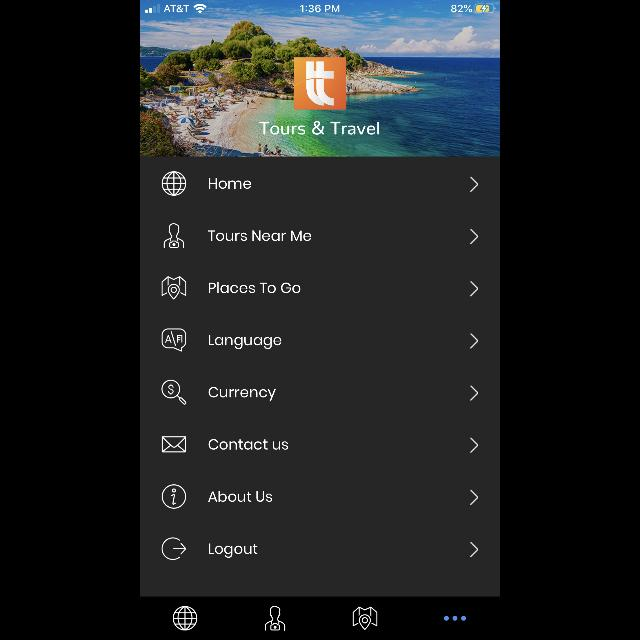icon: (172, 606, 198, 630), (353, 606, 377, 630), (162, 485, 186, 509), (162, 380, 186, 404), (162, 328, 186, 352), (162, 276, 186, 300), (162, 172, 186, 196), (162, 538, 186, 560), (265, 606, 285, 630), (164, 224, 184, 248), (162, 437, 186, 453), (470, 542, 478, 558), (470, 490, 478, 506), (470, 437, 478, 453), (470, 385, 478, 401), (470, 333, 478, 349), (470, 281, 478, 297), (470, 229, 478, 245), (470, 176, 478, 192), (444, 616, 466, 620)
image: (140, 1, 500, 157)
text: (259, 122, 379, 134), (208, 230, 312, 242), (208, 334, 282, 350), (209, 282, 301, 294), (208, 386, 276, 402), (208, 438, 288, 449), (208, 491, 272, 502), (208, 544, 258, 558), (209, 178, 251, 190)
uppertaskbar: (140, 0, 500, 14)
